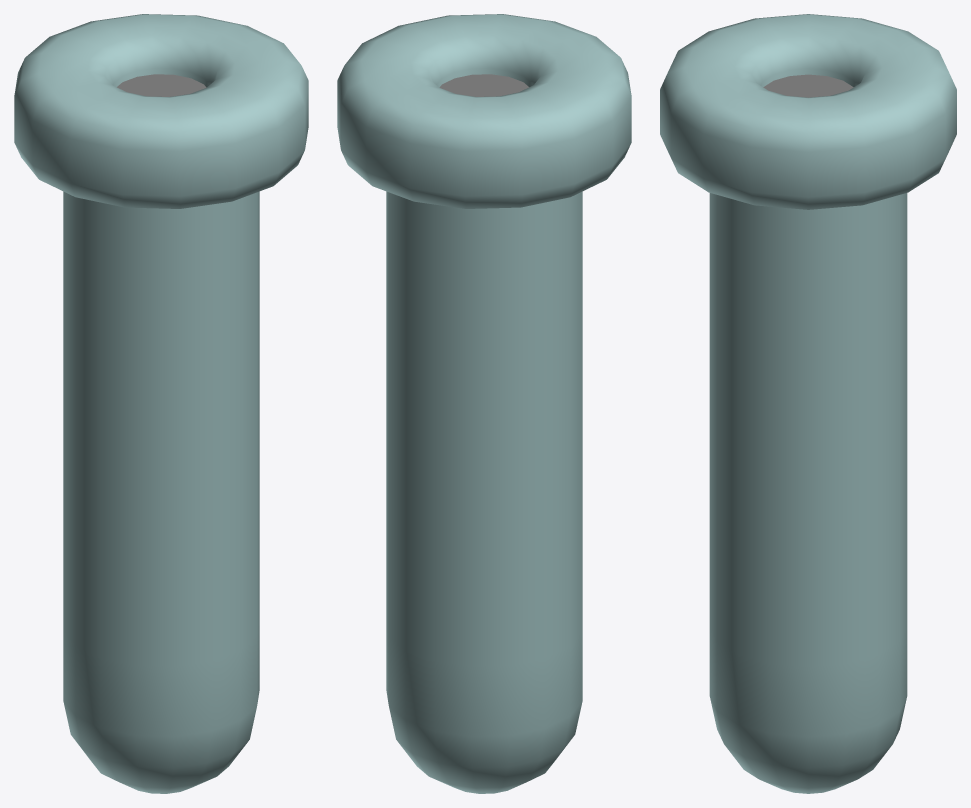
Rendered from LastLuna_Model_Station_Glass_Test_Tube.fbx.
3 views of the same model, side by side, from view 1: azimuth 30°, elevation 25°; view 2: azimuth 150°, elevation 25°; view 3: azimuth 270°, elevation 25° (orthographic).
Visible parts, largest first — view 1: Test_Tube001, Test_Tube_Content001; view 2: Test_Tube001, Test_Tube_Content001; view 3: Test_Tube001, Test_Tube_Content001.
Part boxes in pixels (left/top/right/bottom): Test_Tube001: left=14, top=14, right=308, bottom=793; Test_Tube_Content001: left=117, top=74, right=206, bottom=96; Test_Tube001: left=337, top=14, right=631, bottom=793; Test_Tube_Content001: left=439, top=74, right=528, bottom=96; Test_Tube001: left=660, top=14, right=956, bottom=793; Test_Tube_Content001: left=763, top=74, right=853, bottom=97.
Bounding box in the file's own units: 30 × 80 × 30.
